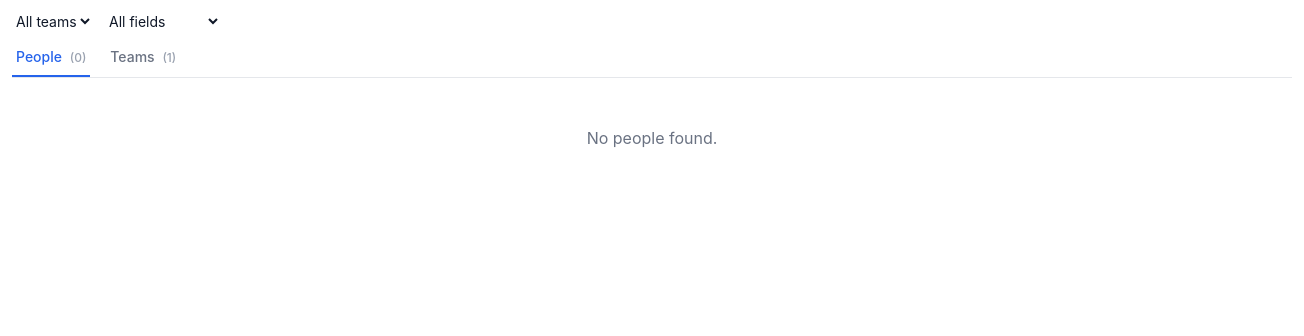
Test: DataQualityTab › switches to teams tab
Click the button "Teams (1)".
click(143, 62)  # box [106,47,180,77]
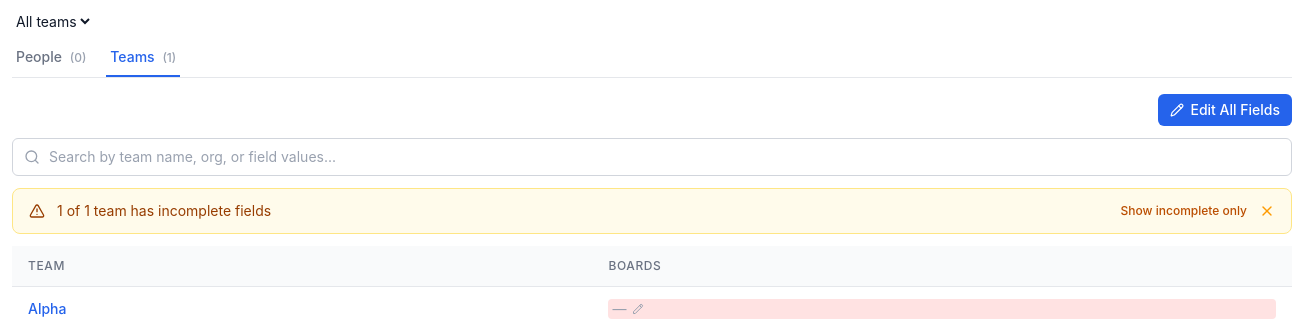
Expected: the text "Alpha" is shown, [28,299,66,319]
